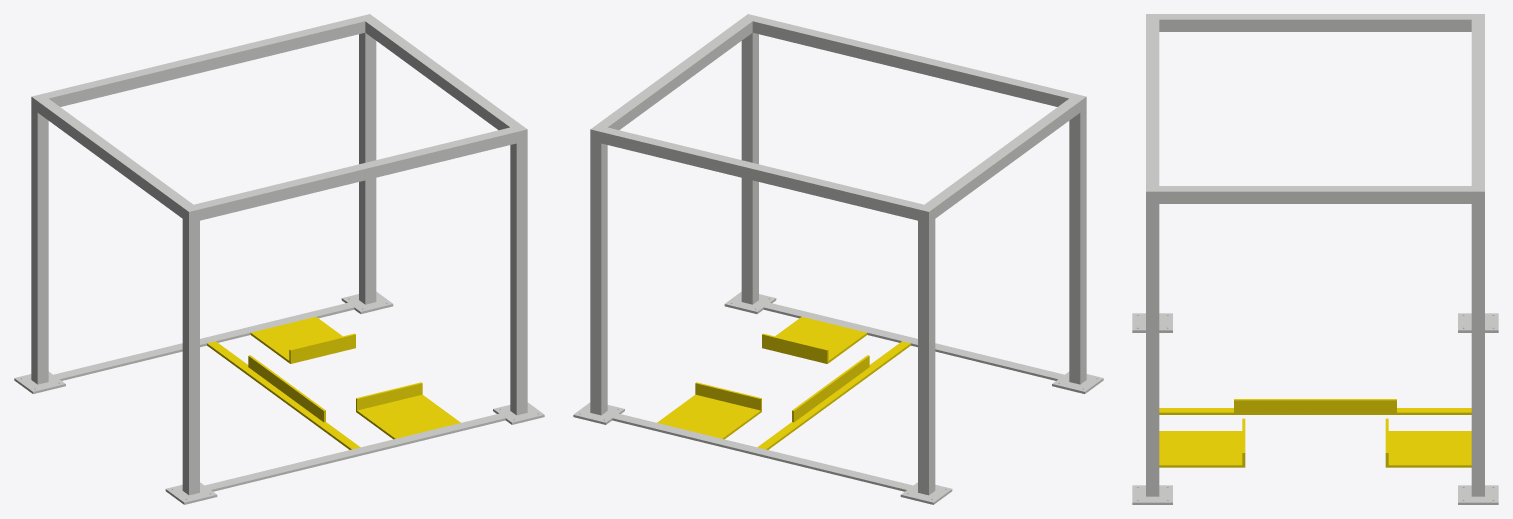
File: palletizer-frame.glb
3 renders of one model, left to right at view 1: azimuth 30°, elevation 25°; view 2: azimuth 150°, elevation 25°; view 3: azimuth 270°, elevation 25°, orthographic. The views are drawn at different scales.
Visible parts, largest first — view 1: body; view 2: body; view 3: body.
Boxes of the visible parts, box(x1,y1,x2,y2) form: body: box(14, 14, 544, 504); body: box(573, 14, 1103, 504); body: box(1132, 14, 1498, 504).
Size of what is drawn, in the model's own units: 3.3 by 2.5 by 2.7.
